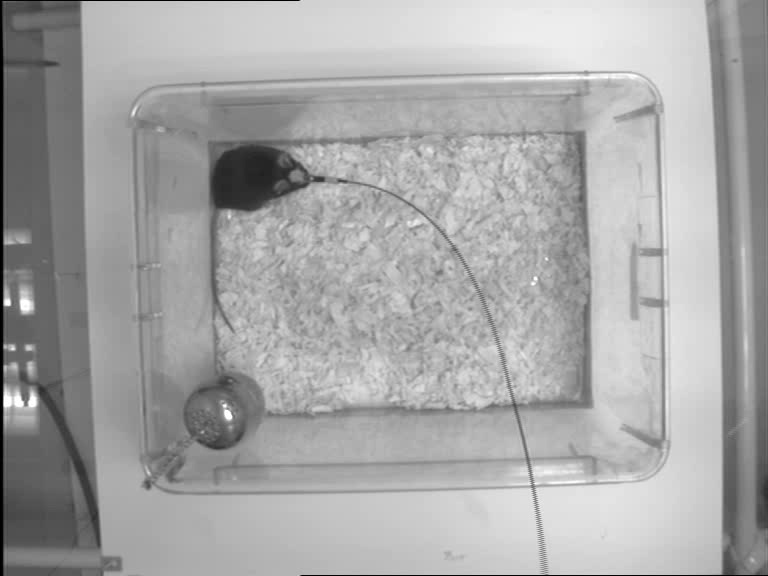mice: (209, 139, 314, 335)
